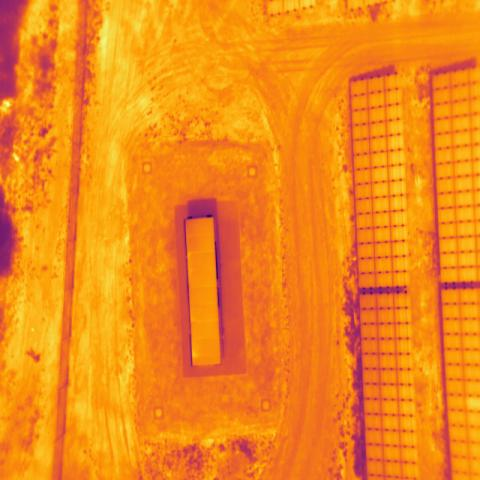fault: (465, 395, 480, 412)
